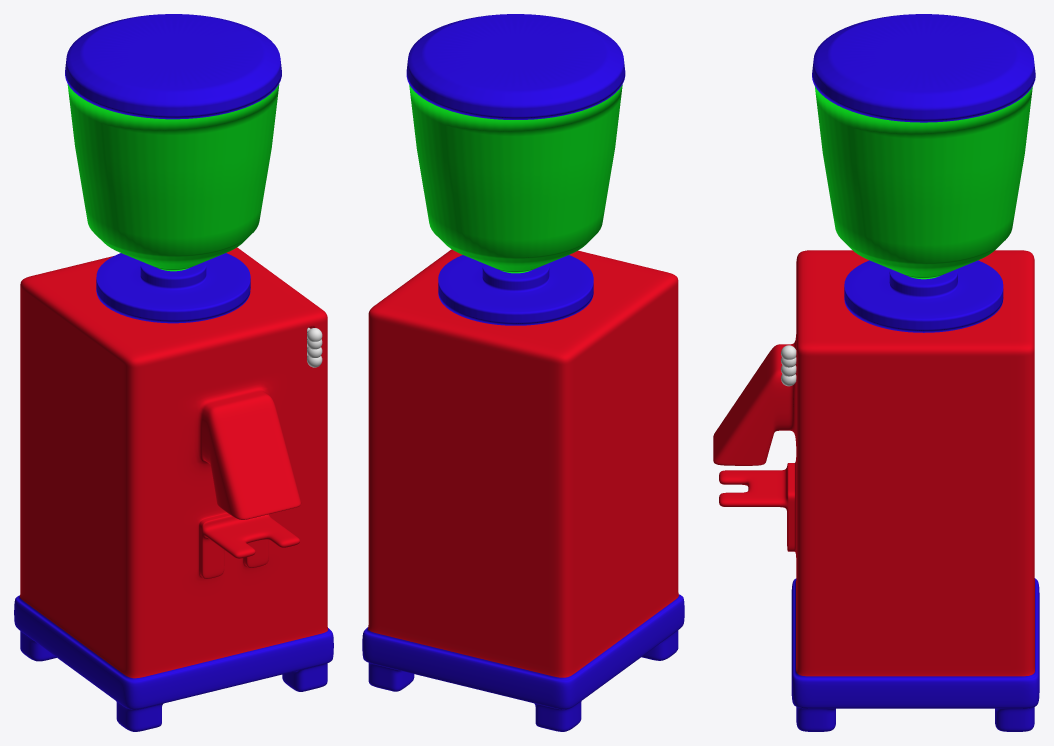
File: MühleV2.fbx
3 views of the same model, side by side, from view 1: azimuth 30°, elevation 25°; view 2: azimuth 150°, elevation 25°; view 3: azimuth 270°, elevation 25° (orthographic). The views are drawn at different scales.
Parts seen in each view (by area): view 1: Grinder, Reservoir; view 2: Grinder, Reservoir; view 3: Grinder, Reservoir.
Boxes of the visible parts, bbox=[...] form: Grinder: bbox=[14, 247, 333, 731]; Reservoir: bbox=[65, 14, 281, 323]; Grinder: bbox=[362, 249, 684, 731]; Reservoir: bbox=[406, 14, 625, 325]; Grinder: bbox=[713, 250, 1039, 731]; Reservoir: bbox=[812, 14, 1035, 332].
Size of the model in its own units: 31.22 by 87.91 by 41.06.
